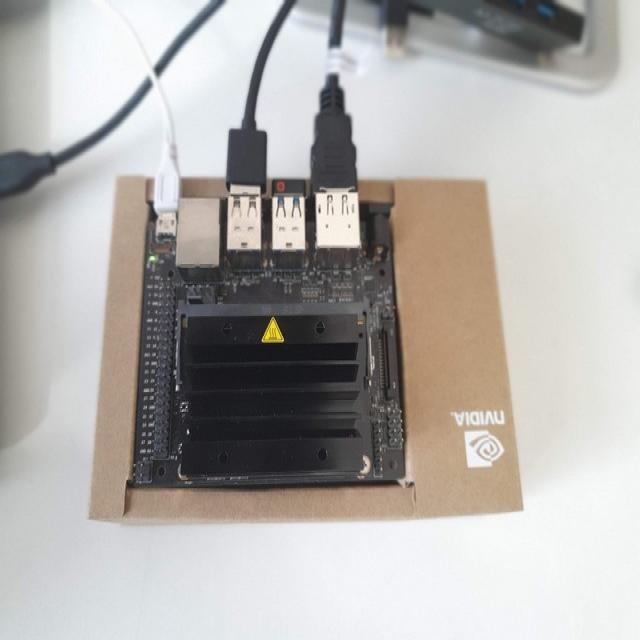Jetson Nano: (135, 194, 408, 487)
